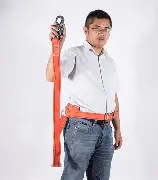safety belt2: (57, 101, 125, 129)
